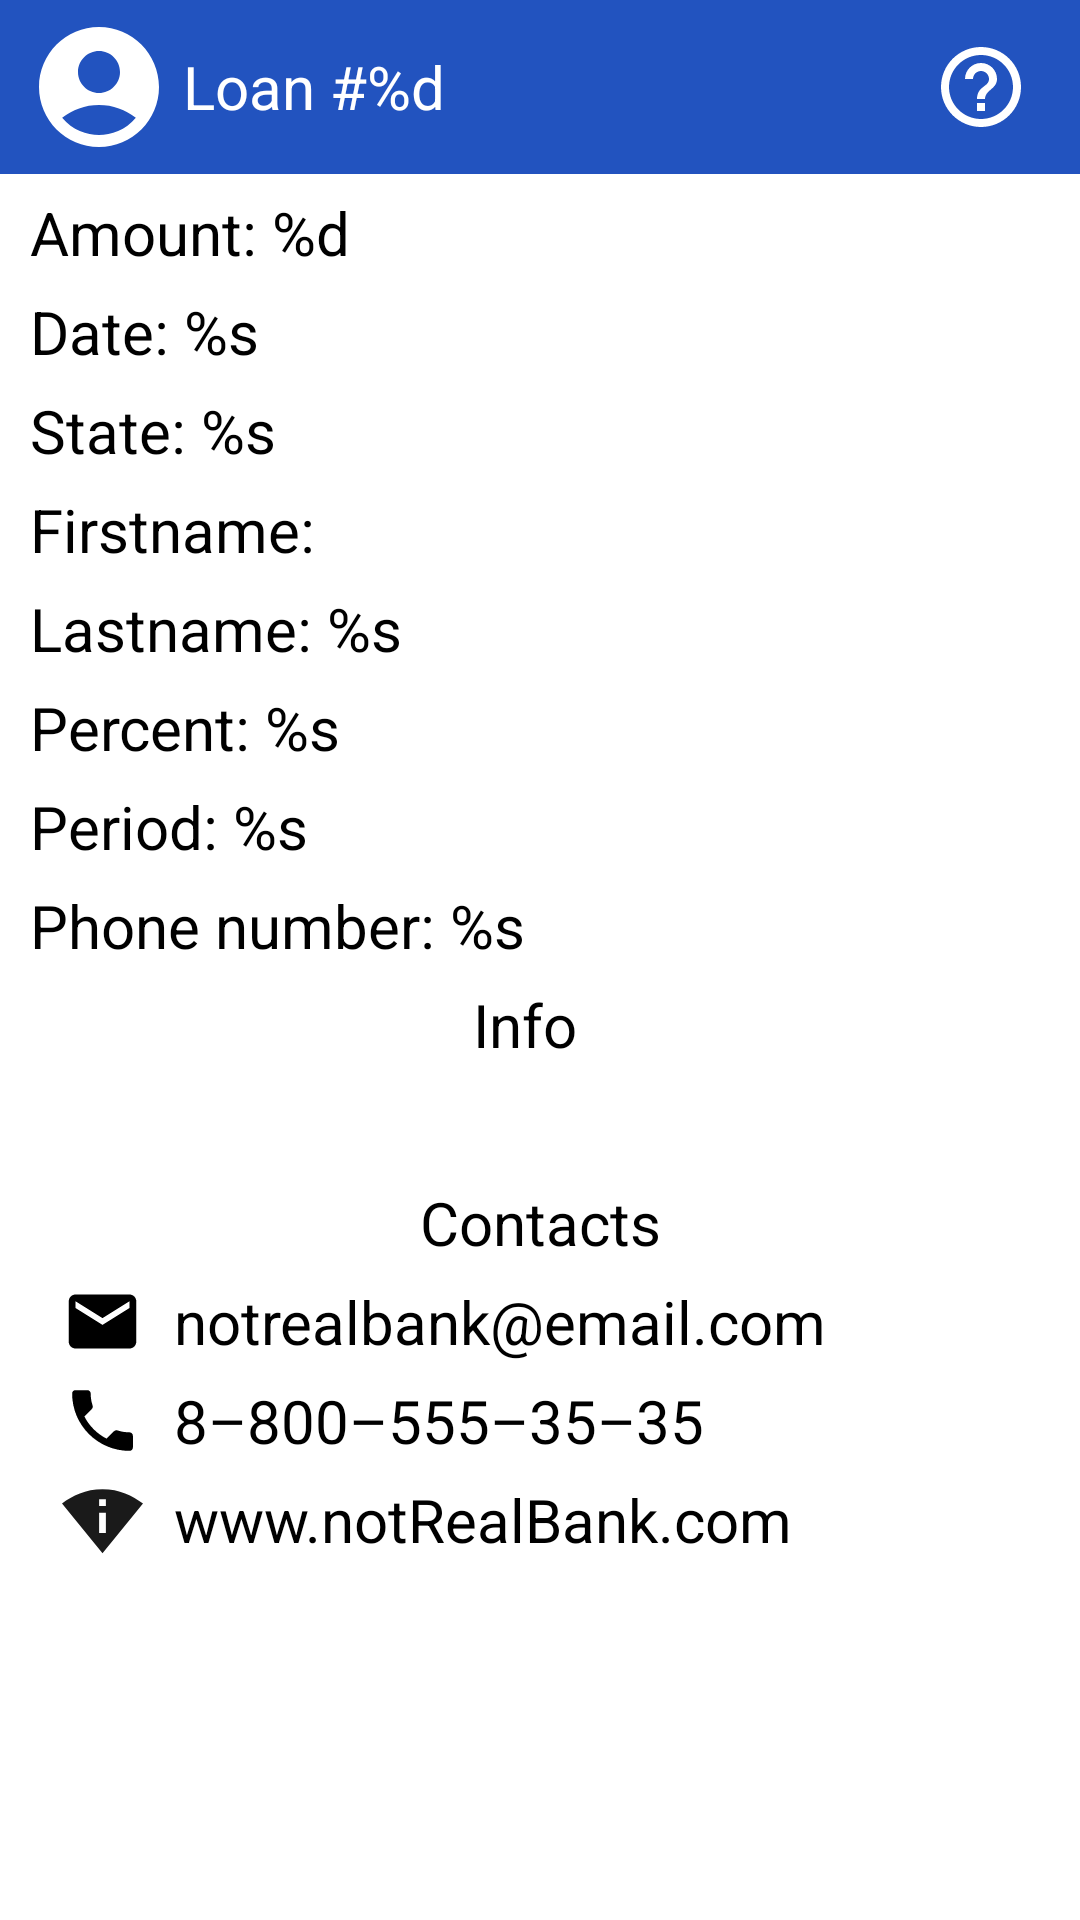

Screen size 1080x1920. Icon name, then its center in pixels as (x,y):
internet: (102,1521)
phone: (102,1420)
post: (102,1321)
